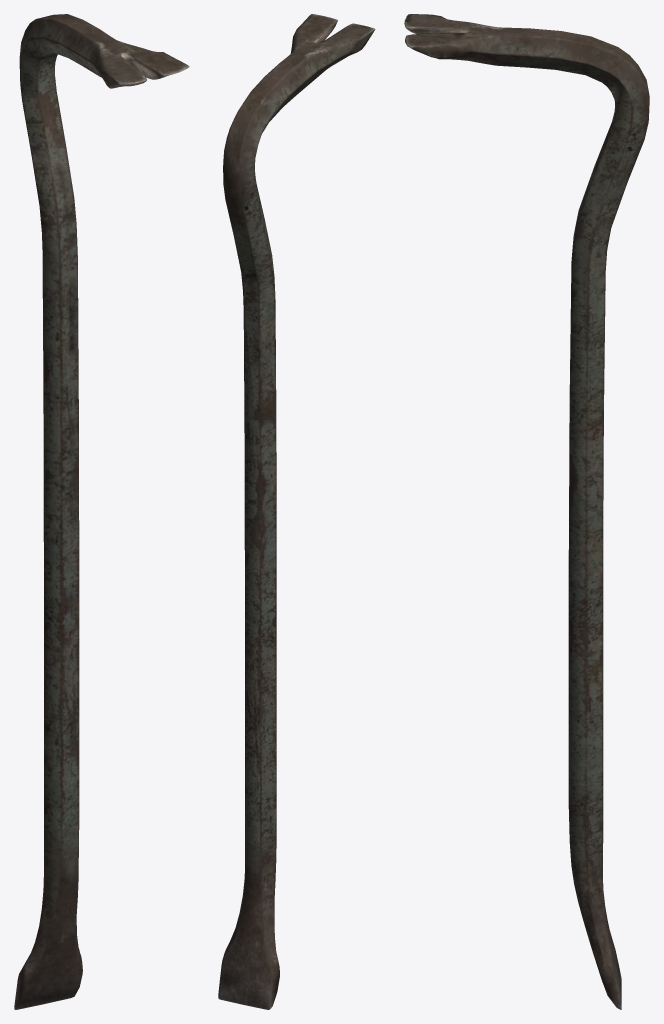
File: crowbar.glb
3 views of the same model, side by side, from view 1: azimuth 30°, elevation 25°; view 2: azimuth 150°, elevation 25°; view 3: azimuth 270°, elevation 25° (orthographic). The views are drawn at different scales.
Visible parts, largest first — view 1: crowbar_01; view 2: crowbar_01; view 3: crowbar_01.
Part boxes in pixels (bbox=[...]): crowbar_01: bbox=[14, 14, 189, 1009]; crowbar_01: bbox=[218, 14, 375, 1009]; crowbar_01: bbox=[404, 14, 649, 1009].
Bounding box in the file's own units: 0.0404 × 0.5554 × 0.1276.
1 material, 1 textured.
